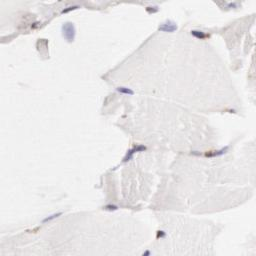nucleus: (61, 20, 76, 42), (158, 18, 178, 33), (41, 212, 63, 223), (120, 148, 134, 163), (116, 87, 135, 95), (144, 5, 159, 14), (61, 6, 78, 13), (226, 2, 240, 10), (216, 146, 229, 154), (103, 205, 119, 211), (191, 31, 204, 37), (135, 145, 145, 151), (143, 250, 150, 256), (228, 108, 235, 114), (31, 21, 38, 27), (161, 231, 166, 237)
positive_cell: (205, 147, 229, 157), (192, 30, 211, 40), (157, 230, 166, 238)
